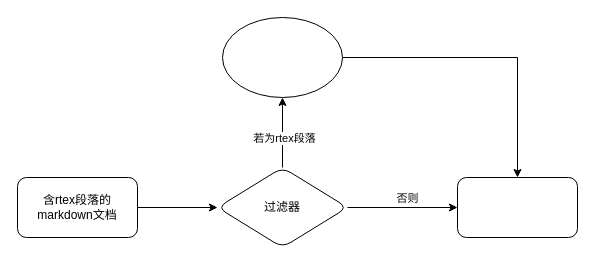
This 595x265 diagram has some shape labels left out. Each missing label, with the box of its shape:
rtex解释器: (222, 16, 342, 98)
含latex段落的markdown文档: (456, 176, 578, 238)
